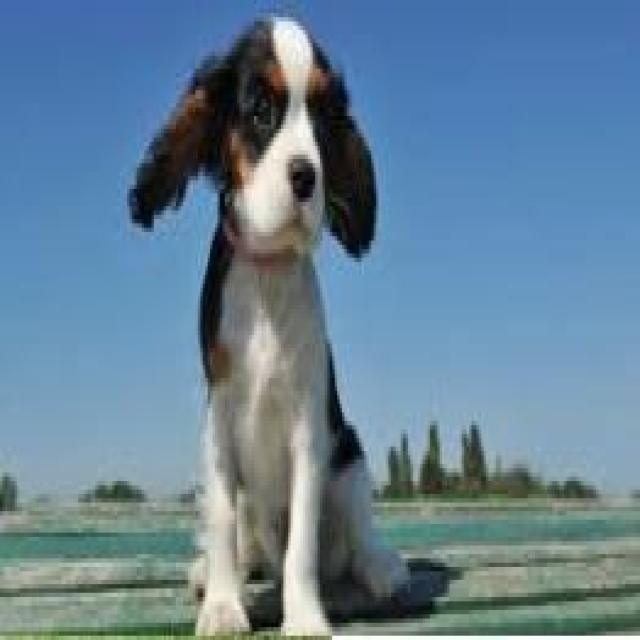Perro: (117, 4, 413, 640)
